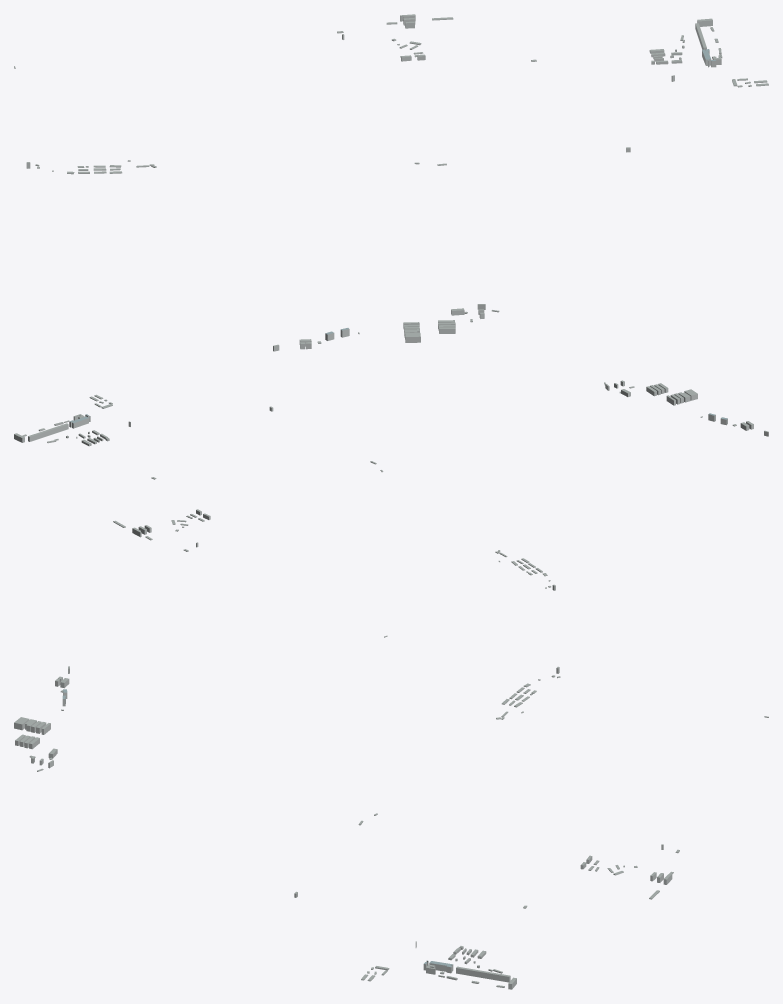
3 views of the same model, one above another, from view 1: azimuth 30°, elevation 25°; view 2: azimuth 150°, elevation 25°; view 3: azimuth 270°, elevation 25° (orthographic). The views are drawn at different scales.
Parts seen in each view (by area): view 1: 上海全域建筑分块 · mapped building neighborhood; view 2: 上海全域建筑分块 · mapped building neighborhood; view 3: 上海全域建筑分块 · mapped building neighborhood.
Part boxes in pixels (left/top/right/bottom): 上海全域建筑分块 · mapped building neighborhood: left=14, top=14, right=768, bottom=351; 上海全域建筑分块 · mapped building neighborhood: left=14, top=380, right=768, bottom=637; 上海全域建筑分块 · mapped building neighborhood: left=14, top=666, right=768, bottom=989.
Size of the model in its own units: 2009 by 20.8 by 2013.
